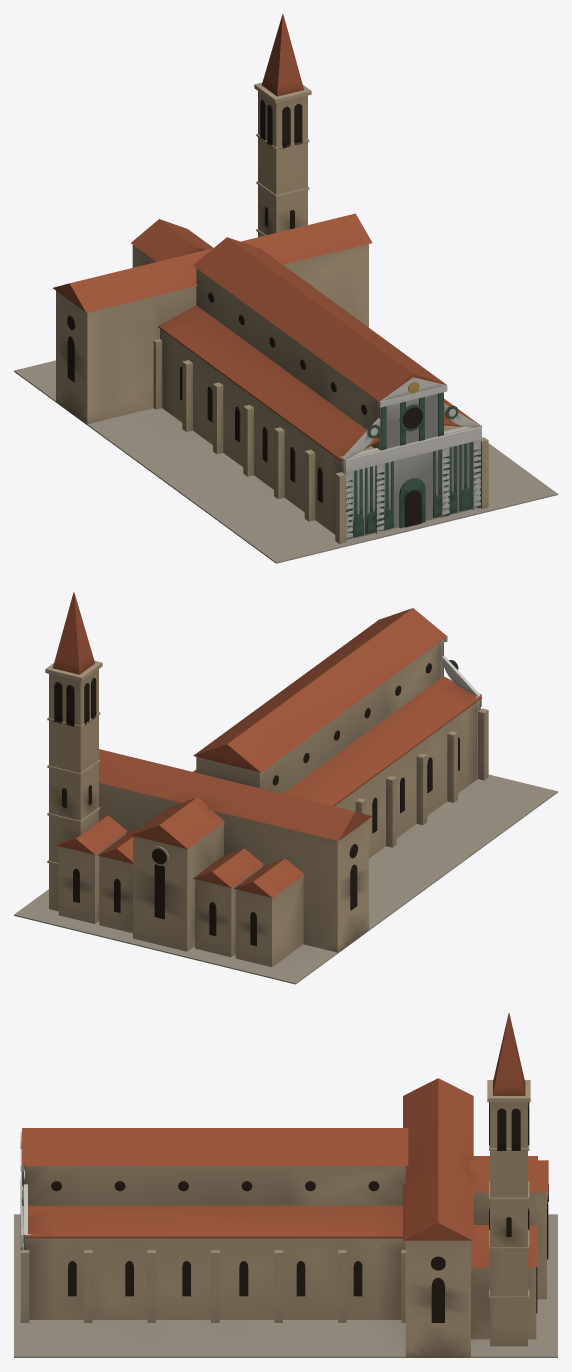
The model's file is santa-maria-novella.glb.
3 views of the same model, one above another, from view 1: azimuth 30°, elevation 25°; view 2: azimuth 150°, elevation 25°; view 3: azimuth 270°, elevation 25° (orthographic). The views are drawn at different scales.
Parts seen in each view (by area): view 1: p0_walls, p1_roofs, p2_façade; view 2: p0_walls, p1_roofs, p2_façade; view 3: p0_walls, p1_roofs, p2_façade.
Boxes of the visible parts, box(x1,y1,x2,y2) form: p0_walls: box(14, 219, 557, 563); p1_roofs: box(53, 213, 481, 461); p2_façade: box(254, 14, 481, 541); p0_walls: box(14, 641, 557, 984); p1_roofs: box(99, 608, 481, 840); p2_façade: box(45, 592, 481, 911); p0_walls: box(14, 1156, 557, 1357); p1_roofs: box(22, 1078, 473, 1240); p2_façade: box(20, 1013, 530, 1346).
Size of the model in its own units: 63 by 66.2 by 100.
